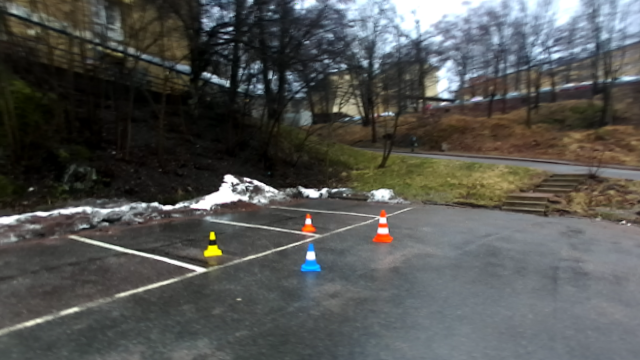blue: (299, 242, 324, 273)
orange: (299, 212, 318, 235)
orange2: (371, 208, 394, 243)
yellow: (202, 228, 223, 258)
